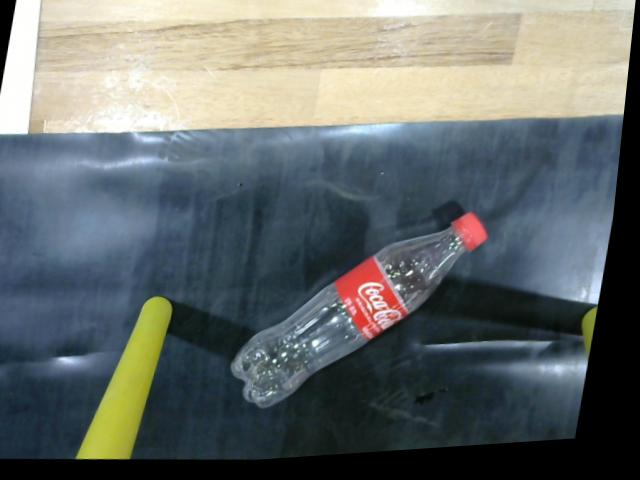bottle: (231, 207, 503, 418)
